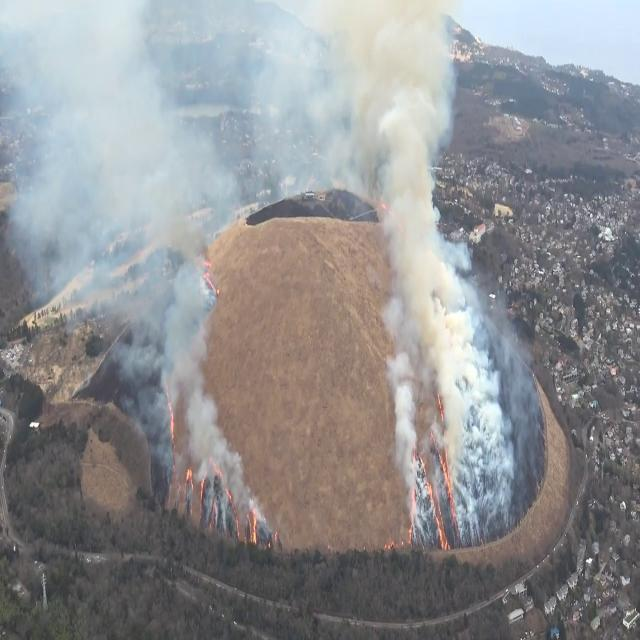Fire: (248, 495, 260, 549)
Smoke: (1, 0, 252, 507), (342, 0, 542, 538)
